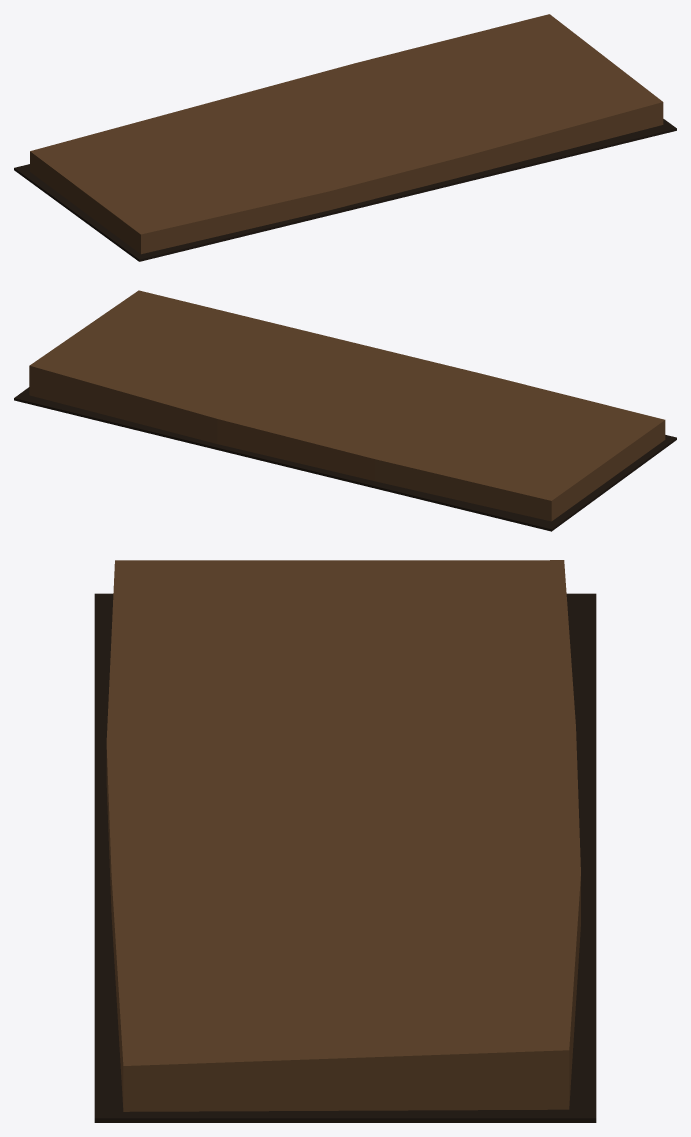
File: level1_loose_floorboard_remodel.glb
3 views of the same model, one above another, from view 1: azimuth 30°, elevation 25°; view 2: azimuth 150°, elevation 25°; view 3: azimuth 270°, elevation 25° (orthographic). The views are drawn at different scales.
Visible parts, largest first — view 1: LooseFloorboard, LooseFloorboardPryGap; view 2: LooseFloorboard, LooseFloorboardPryGap; view 3: LooseFloorboard, LooseFloorboardPryGap.
Part boxes in pixels (x1,y1,x2,y2): LooseFloorboard: (30,14,663,254); LooseFloorboardPryGap: (14,119,676,261); LooseFloorboard: (29,290,665,521); LooseFloorboardPryGap: (14,387,676,531); LooseFloorboard: (106,560,580,1111); LooseFloorboardPryGap: (94,593,596,1122).
Size of the model in its own units: 0.738 by 0.042 by 0.298.
